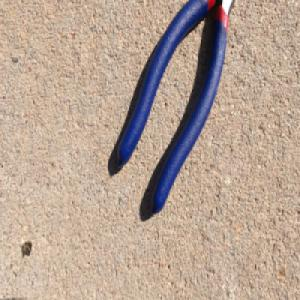Pliers: (114, 0, 237, 219)
